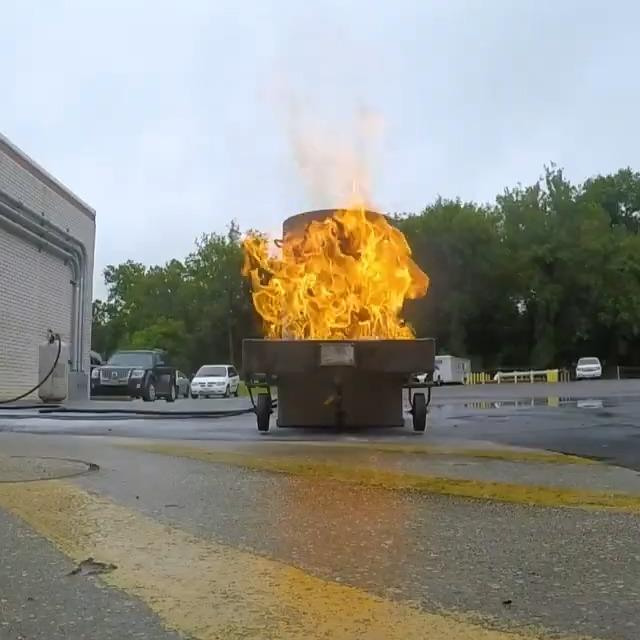SUV: (91, 348, 176, 401), (90, 350, 103, 376)
mini-van: (190, 364, 240, 398)
sedan: (414, 366, 442, 386), (177, 372, 190, 398)
trailer: (242, 338, 434, 433), (435, 355, 472, 384)
truck: (574, 357, 606, 379)
